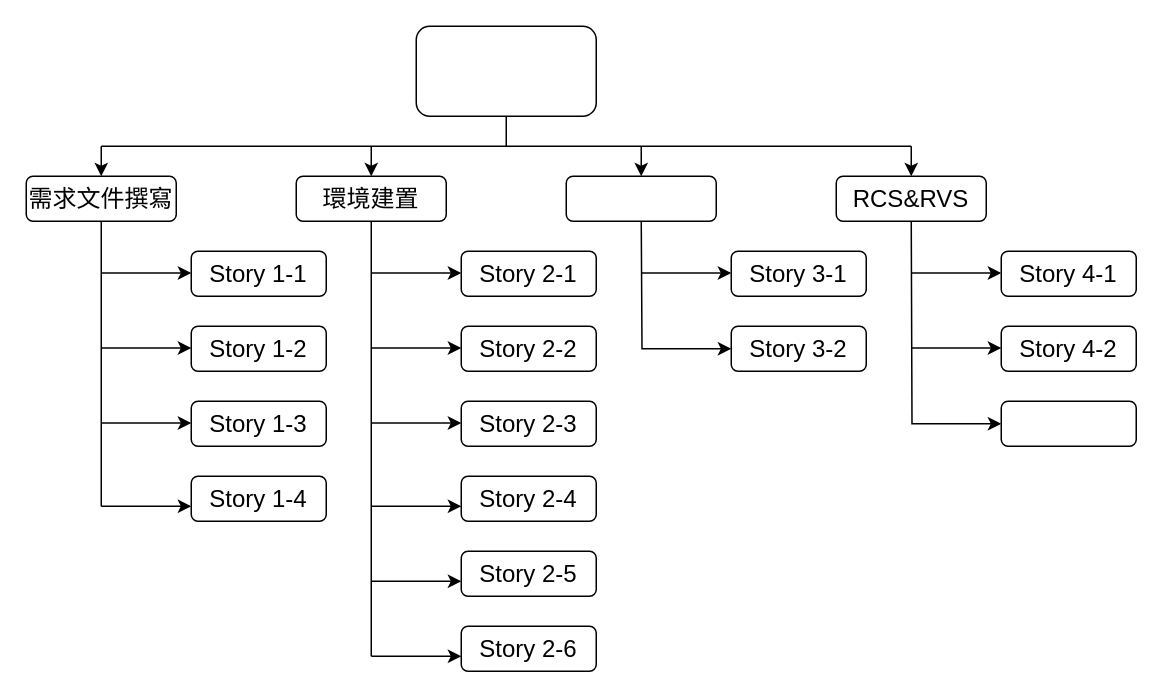
This 1163x698 diagram has some shape labels left out. Each missing label, with the box of its shape:
PRMS: (565, 175, 716, 221)
PVS: (415, 25, 596, 116)
Story 4-3: (1000, 400, 1136, 446)
